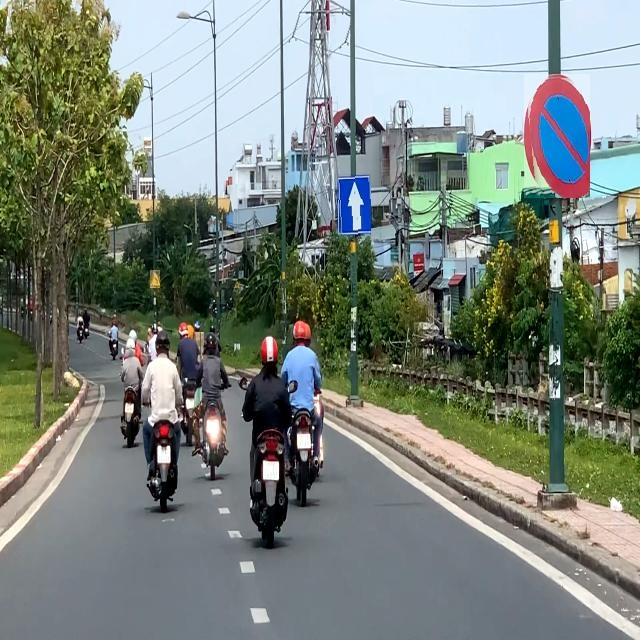bien_chi_dan: (524, 74, 590, 198), (337, 174, 371, 237), (150, 270, 160, 288)
